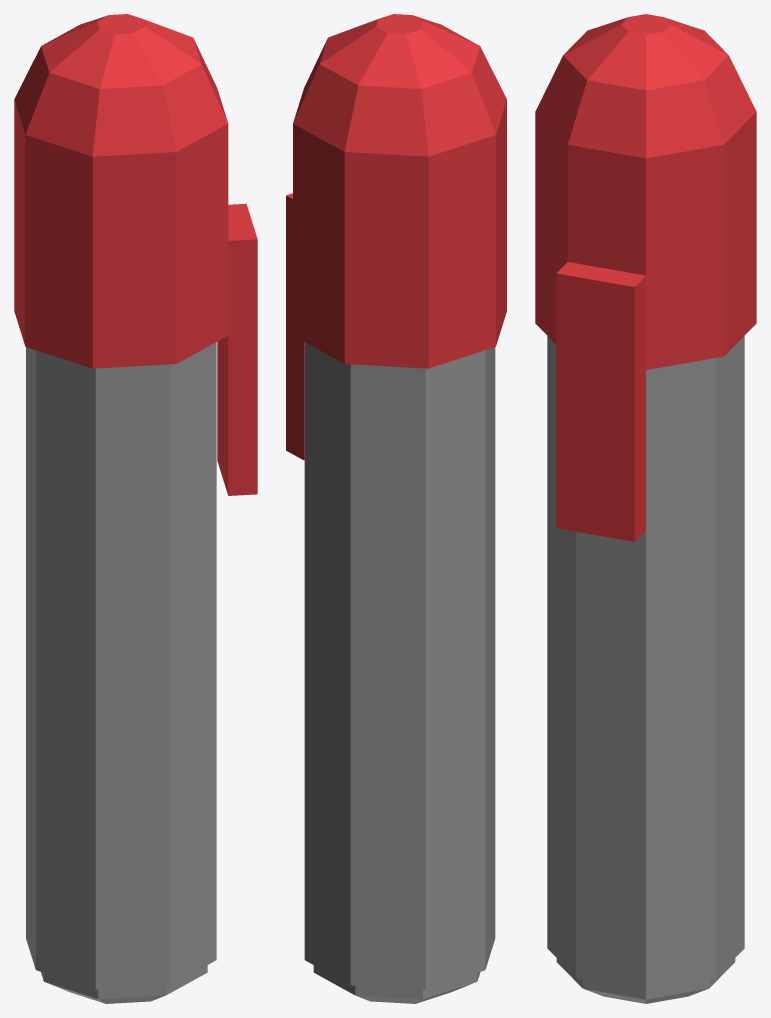
Rendered from marker3.fbx.
3 views of the same model, side by side, from view 1: azimuth 30°, elevation 25°; view 2: azimuth 150°, elevation 25°; view 3: azimuth 270°, elevation 25° (orthographic).
Visible parts, largest first — view 1: marker3; view 2: marker3; view 3: marker3.
Boxes of the visible parts, <box> form: marker3: <box>14,14,257,1003</box>; marker3: <box>286,14,506,1003</box>; marker3: <box>535,14,756,1003</box>.
Bounding box in the file's own units: 0.0332 × 0.1407 × 0.0296.
